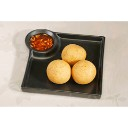bonda: (72, 59, 95, 84), (62, 42, 87, 62), (47, 61, 72, 80)
